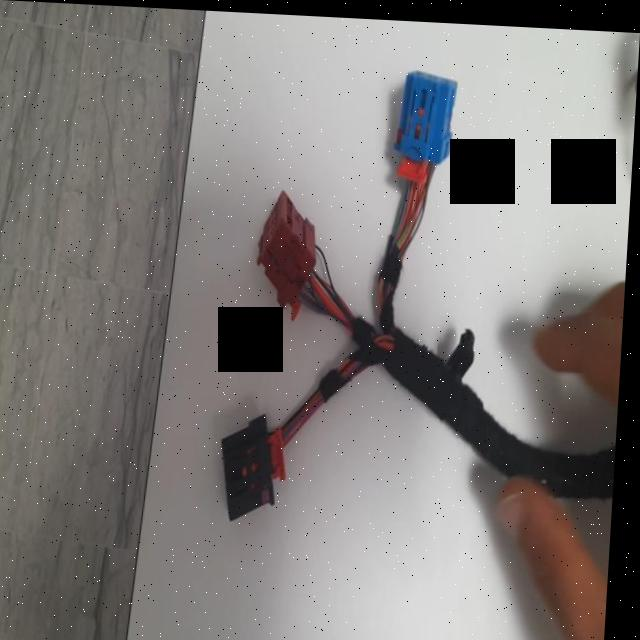cable: (274, 227, 620, 490)
connector: (260, 188, 317, 316), (394, 67, 457, 161), (227, 412, 280, 517)
